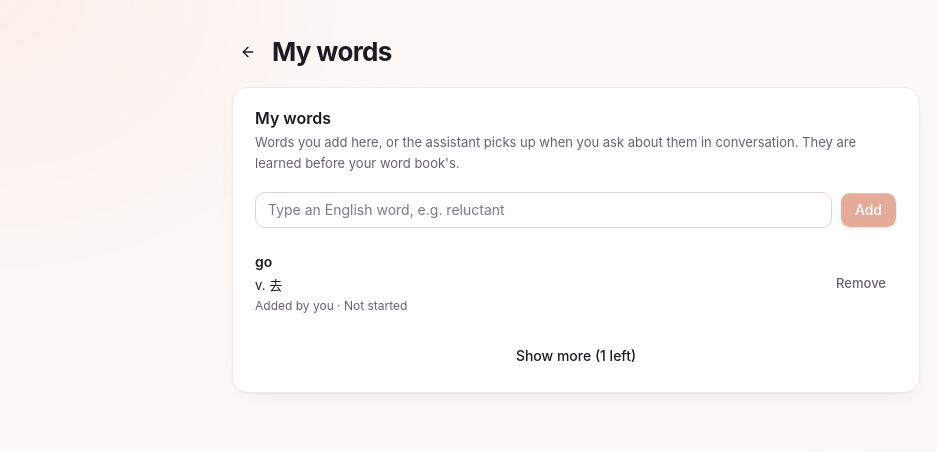
Test: MineApp › loads more
What coordinates should you click on to do the following:
click the button "Show more (1 left)"
I would click on:
 (576, 356)
Its box is top-left (501, 338), bottom-right (651, 374).
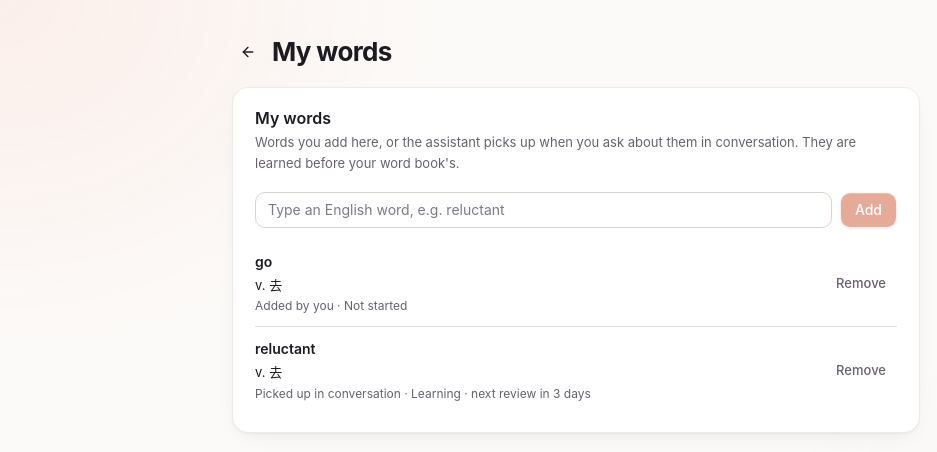
Result: the list item with test id "mine-reluctant" is shown at top-left (255, 327), bottom-right (897, 414)
Result: the button "Show more" is gone
